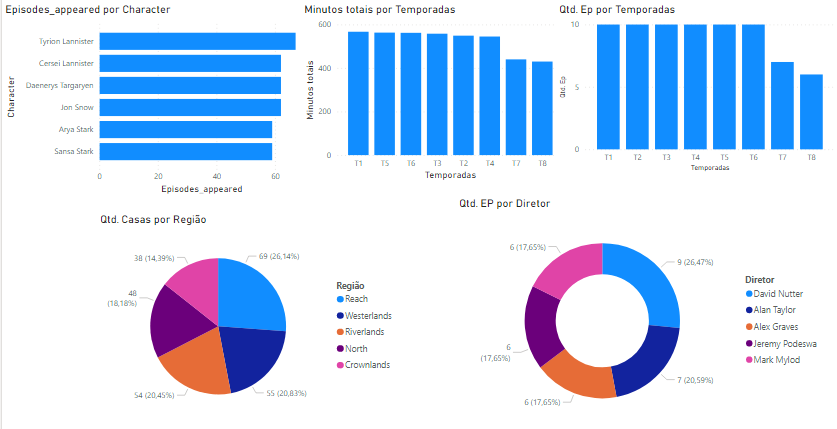

Layout of this report page (visuals, bound fields, positions):
{"tool":"powerbi","page":{"name":"Página 1","canvas":[1280,720],"ordinal":0},"visuals":[{"type":"barChart","fields":{"Category":["characters_v4.Character"],"Y":["characters_v4.Episodes_appeared"]},"box":[0,62.8,474.6,297],"z":0},{"type":"columnChart","fields":{"Category":["Planilha1.Temporadas"],"Y":["Planilha1.Minutos totais"]},"box":[457.8,62.8,407.3,275.6],"z":1},{"type":"clusteredColumnChart","fields":{"Y":["Planilha1 (2).Qtd. Ep"],"Category":["Planilha1 (2).Temporadas"]},"box":[848.2,62.8,431.8,263.3],"z":2},{"type":"pieChart","fields":{"Category":["Planilha1 (3).Região"],"Y":["Planilha1 (3).Qtd. Casas"]},"box":[145.5,384.3,465.5,327.7],"z":3},{"type":"donutChart","fields":{"Category":["Planilha1 (4).Diretor "],"Y":["Planilha1 (4).Qtd. EP"]},"box":[695.1,359.8,566.5,359.8],"z":4}]}

Visuals, with their boxes on the page's 1280x720 design canvas (x1, y1, x2, y2). These are canvas units, not pixel positions in the 837x429 screenshot, which may show the page scaled, cropped or inside an application window:
barChart - characters_v4.Character x characters_v4.Episodes_appeared: 0 63 475 360
columnChart - Planilha1.Temporadas x Planilha1.Minutos totais: 458 63 865 338
clusteredColumnChart - Planilha1 (2).Qtd. Ep x Planilha1 (2).Temporadas: 848 63 1280 326
pieChart - Planilha1 (3).Região x Planilha1 (3).Qtd. Casas: 146 384 611 712
donutChart - Planilha1 (4).Diretor  x Planilha1 (4).Qtd. EP: 695 360 1262 720
